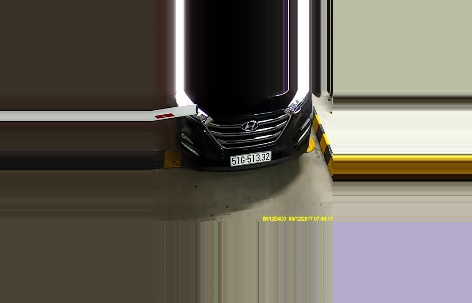plate: (228, 151, 271, 168)
